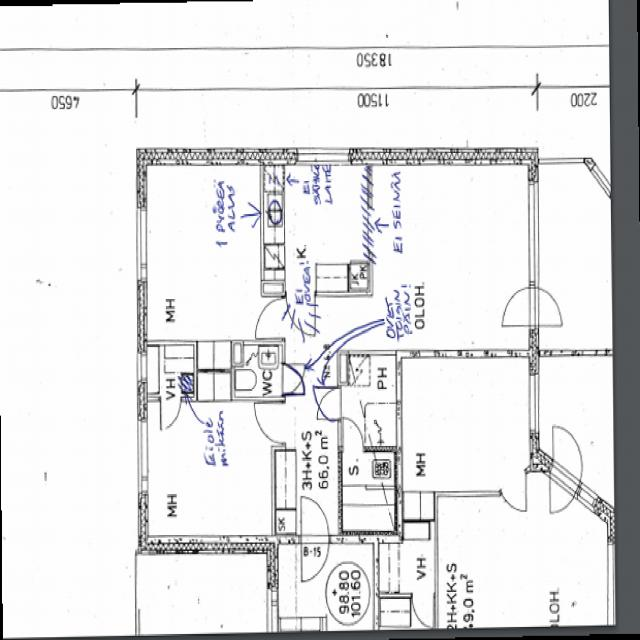door: (300, 535, 328, 582), (502, 288, 538, 324), (528, 288, 564, 324), (300, 496, 328, 542), (255, 300, 285, 336), (256, 405, 285, 442), (315, 387, 341, 420), (281, 364, 306, 394), (160, 396, 180, 430), (343, 420, 362, 452)
